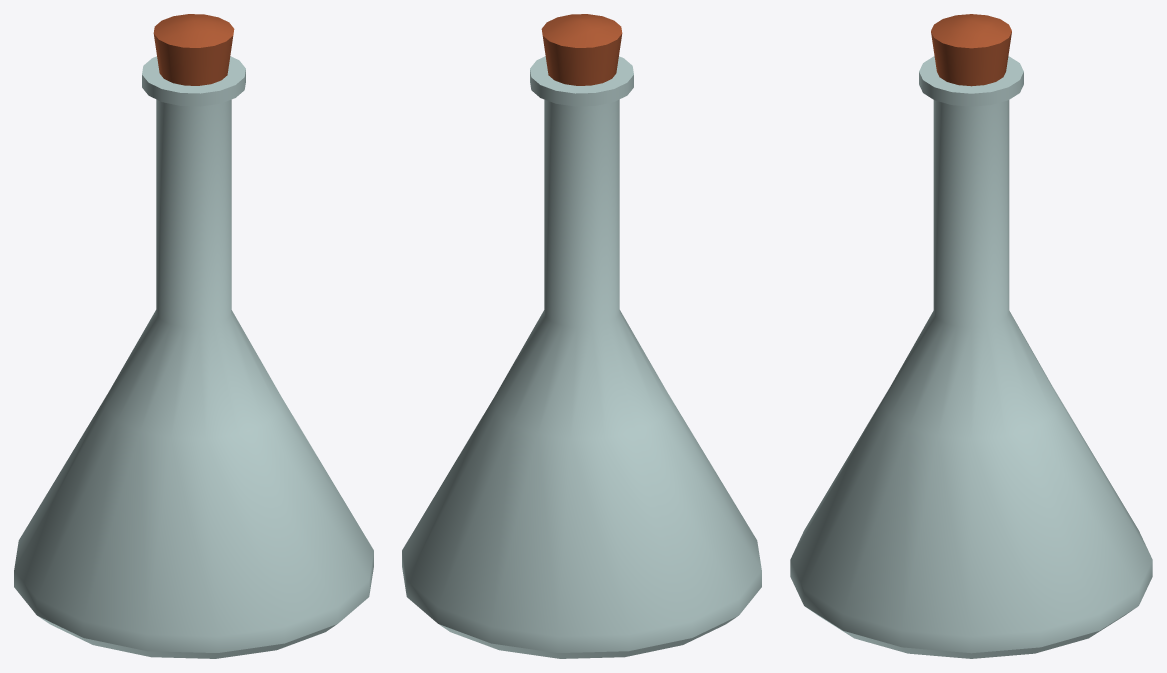
File: decor_Potion2.fbx
3 views of the same model, side by side, from view 1: azimuth 30°, elevation 25°; view 2: azimuth 150°, elevation 25°; view 3: azimuth 270°, elevation 25° (orthographic).
Parts seen in each view (by area): view 1: decor_Potion2; view 2: decor_Potion2; view 3: decor_Potion2.
Part boxes in pixels (left/top/right/bottom): decor_Potion2: left=14, top=14, right=373, bottom=658; decor_Potion2: left=402, top=14, right=761, bottom=658; decor_Potion2: left=790, top=14, right=1152, bottom=658.
Bounding box in the file's own units: 14.89 × 25.95 × 14.89.
